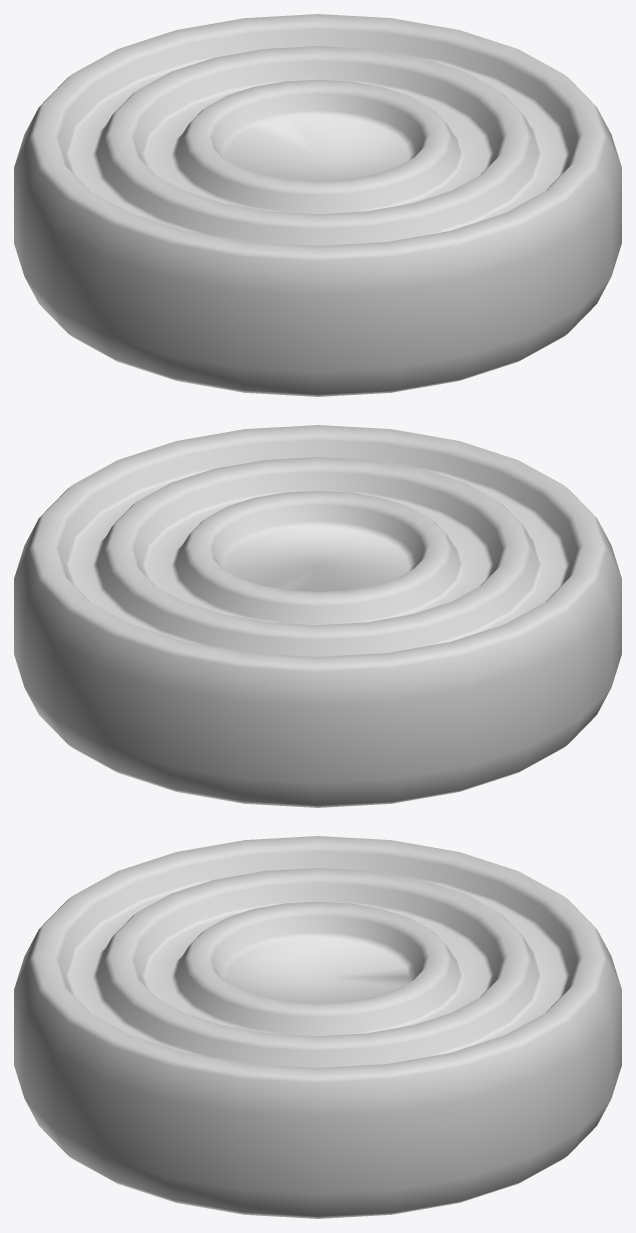
File: Checker_Piece_White_01.glb
3 renders of one model, top to bottom at view 1: azimuth 30°, elevation 25°; view 2: azimuth 150°, elevation 25°; view 3: azimuth 270°, elevation 25°, orthographic.
Parts seen in each view (by area): view 1: Checker_Piece_White_01; view 2: Checker_Piece_White_01; view 3: Checker_Piece_White_01.
Part boxes in pixels (left/top/right/bottom): Checker_Piece_White_01: left=14, top=14, right=621, bottom=396; Checker_Piece_White_01: left=14, top=425, right=621, bottom=807; Checker_Piece_White_01: left=14, top=836, right=621, bottom=1218.
Size of the model in its own units: 0.0388 by 0.0105 by 0.0388.
Materials: 2 (2 with a texture image).
